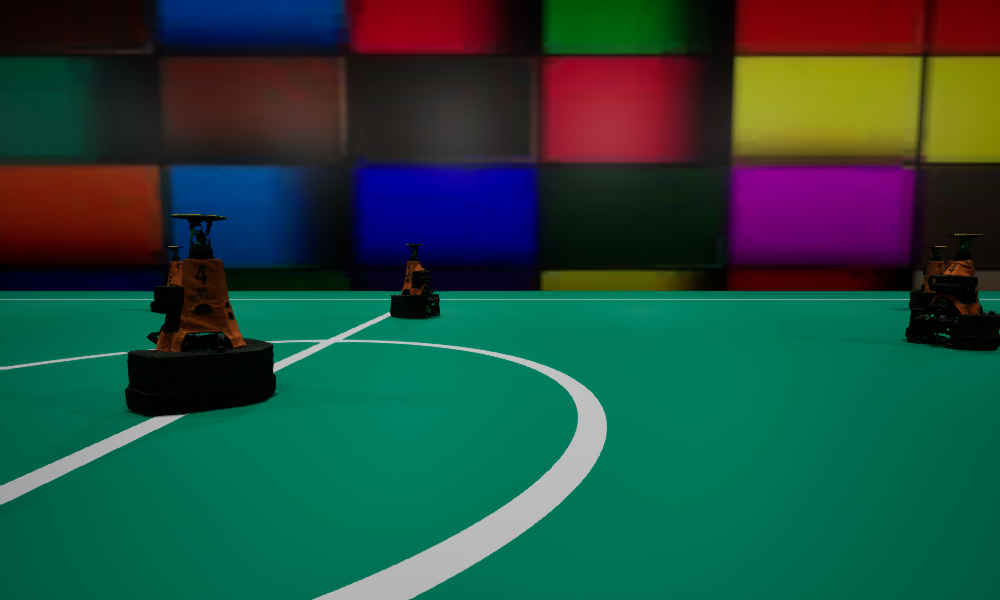0 orange robot TechUnited: (125, 214, 275, 415), (905, 234, 999, 349), (390, 244, 439, 318), (909, 246, 946, 308), (166, 246, 183, 308)
